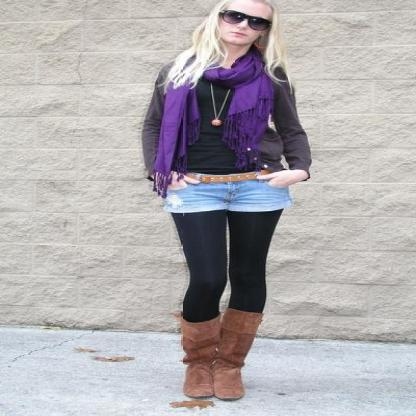shirt: (141, 65, 311, 198)
shoe: (171, 308, 262, 401)
shorts: (164, 178, 292, 212)
sunglass: (218, 10, 272, 32)
